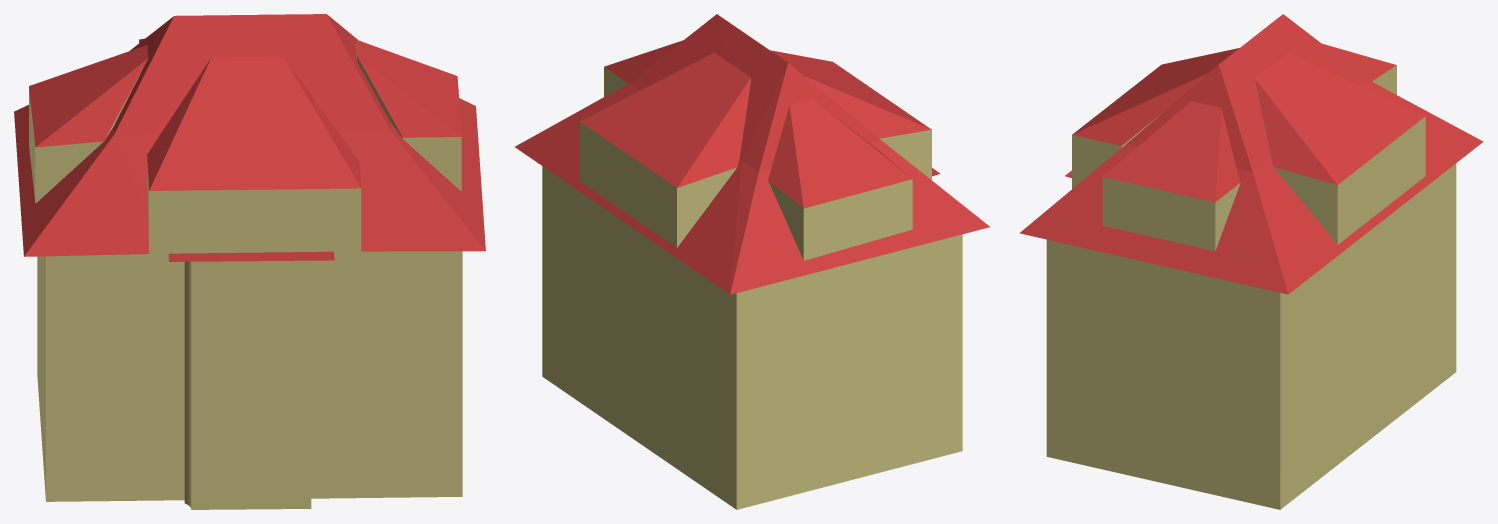
The picture shows the model from 3 angles, left to right: view 1: azimuth 30°, elevation 25°; view 2: azimuth 150°, elevation 25°; view 3: azimuth 270°, elevation 25°; orthographic projection. The views are drawn at different scales.
Visible parts, largest first — view 1: group_13, group_3, group_10, group_11, group_8, group_4, group_12, group_9, group_5; view 2: group_13, group_3, group_6, group_8, group_7, group_9, group_10, group_12, group_11, group_4; view 3: group_13, group_3, group_6, group_4, group_7, group_5, group_10, group_12, group_11, group_8.
Boxes of the visible parts, x1,y1,x2,y2 form: group_13: (37,251,462,509); group_3: (14,14,485,261); group_10: (147,56,361,190); group_11: (147,157,361,253); group_8: (29,45,148,147); group_4: (356,39,461,137); group_12: (14,99,485,261); group_9: (29,61,146,203); group_5: (356,44,461,191); group_13: (542,166,962,509); group_3: (515,14,989,294); group_6: (580,52,750,187); group_8: (768,99,912,208); group_7: (580,79,750,247); group_9: (768,179,912,260); group_10: (770,50,931,138); group_12: (531,137,989,294); group_11: (880,130,931,179); group_4: (604,40,682,83); group_13: (1046,163,1456,509); group_3: (1020,14,1483,294); group_6: (1255,52,1424,184); group_4: (1103,101,1239,202); group_7: (1255,79,1425,244); group_5: (1102,177,1240,251); group_10: (1072,48,1239,145); group_12: (1021,127,1476,293); group_11: (1072,111,1164,188); group_8: (1322,43,1396,81).
Bounding box in the file's own units: 18.84 × 17.25 × 15.38.
